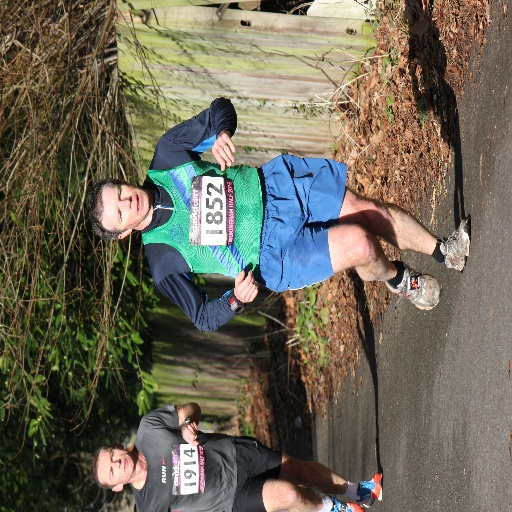hand: (229, 268, 262, 317), (210, 132, 235, 174), (180, 420, 200, 445)
